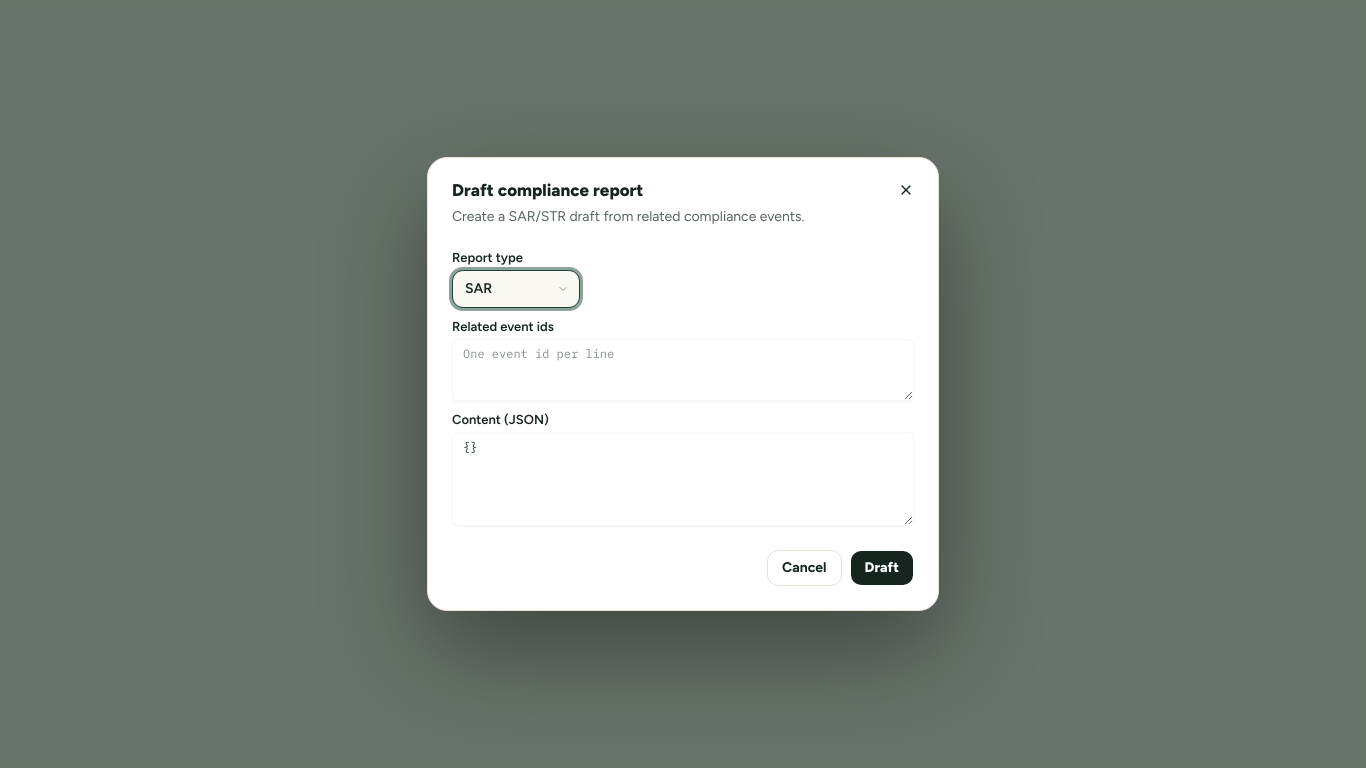
Test: ComplianceReportDraftDialog › surfaces a non-step-up server error inline and stays open
The width and height of the screenshot is (1366, 768).
Step 1. Click the button "Draft" → (882,568), box [850, 550, 914, 586]
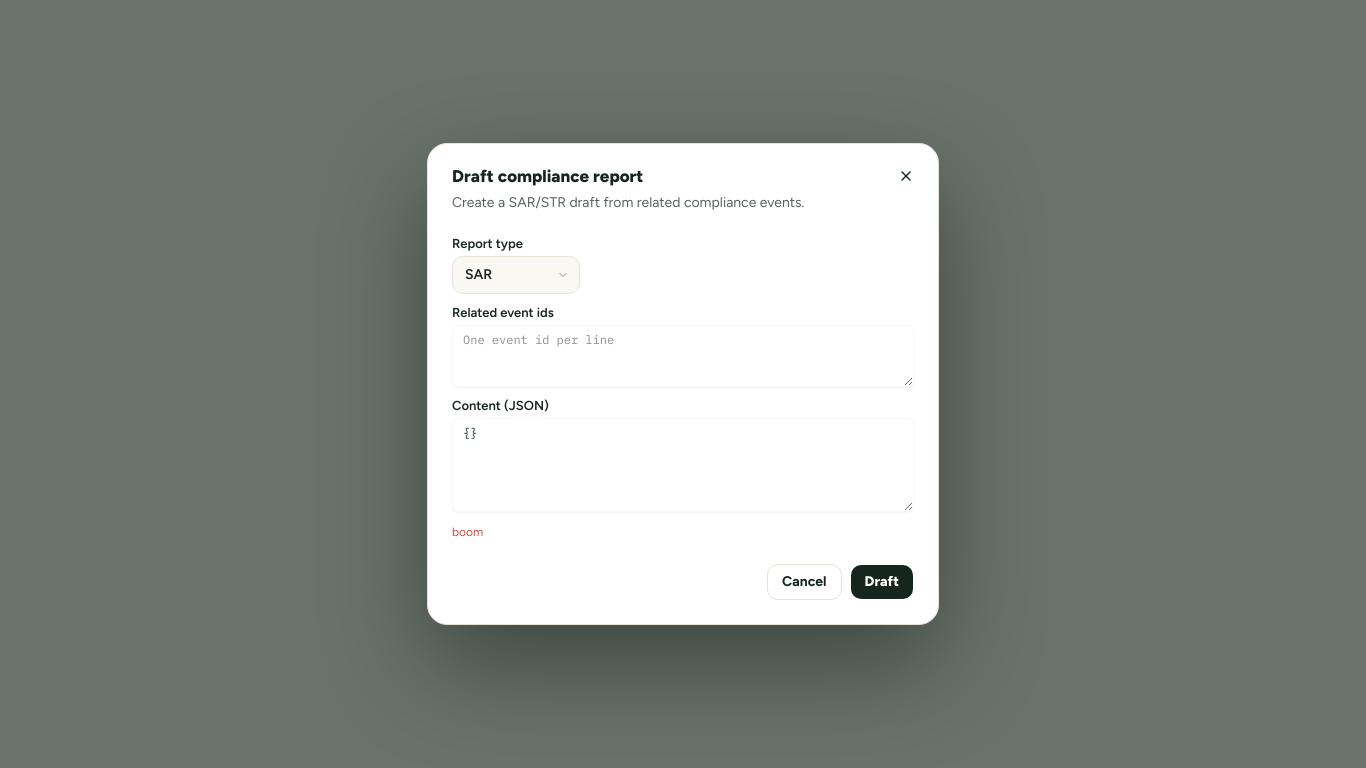
Now the message reads "boom", box [452, 525, 483, 539]
